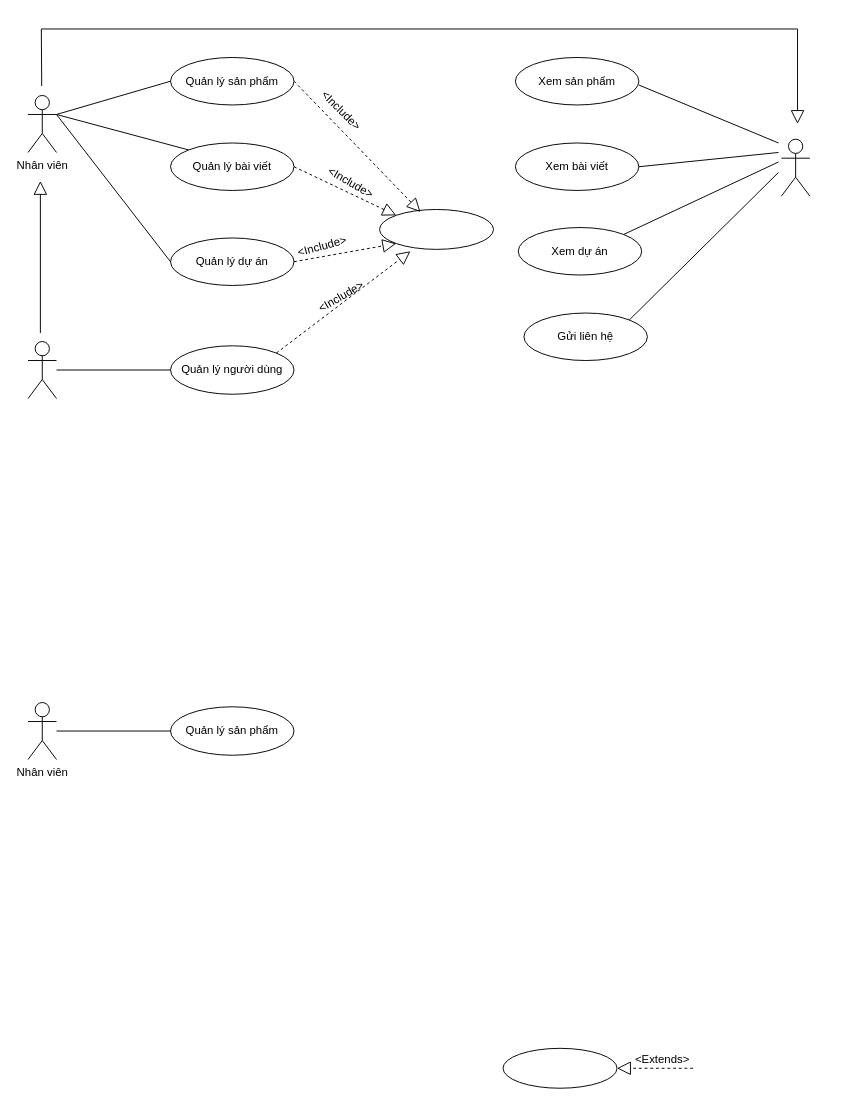
Some shapes in this 849 by 1105 pixel diagram are drawn without their labels. Each missing label, with the centre of its shape:
"Admin" goes at point 42,370.
"Bình luận" goes at point 559,1067.
"Khách truy cập" goes at point 795,167.
"Đăng nhập" goes at point 436,229.
